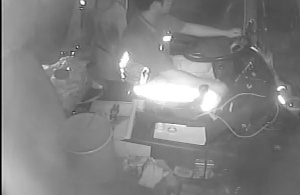paper: (153, 120, 208, 148)
